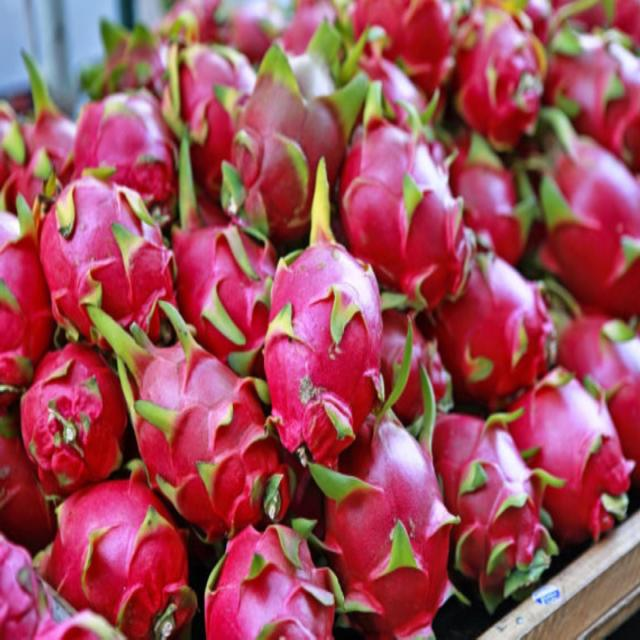Thanh Long: (118, 333, 284, 511), (320, 415, 448, 640), (431, 405, 559, 608), (340, 112, 470, 306), (215, 68, 353, 240), (264, 241, 378, 441), (43, 174, 173, 348), (50, 476, 189, 635), (432, 248, 556, 409), (162, 192, 280, 353), (547, 132, 639, 298), (206, 534, 330, 640), (13, 354, 113, 484), (163, 50, 256, 185), (75, 72, 171, 198), (536, 386, 624, 516), (545, 30, 640, 150), (438, 143, 536, 256), (0, 92, 80, 225), (570, 308, 640, 448), (459, 16, 544, 129), (314, 0, 464, 64), (0, 552, 88, 640), (0, 220, 41, 401), (146, 0, 302, 46), (372, 313, 437, 419)
